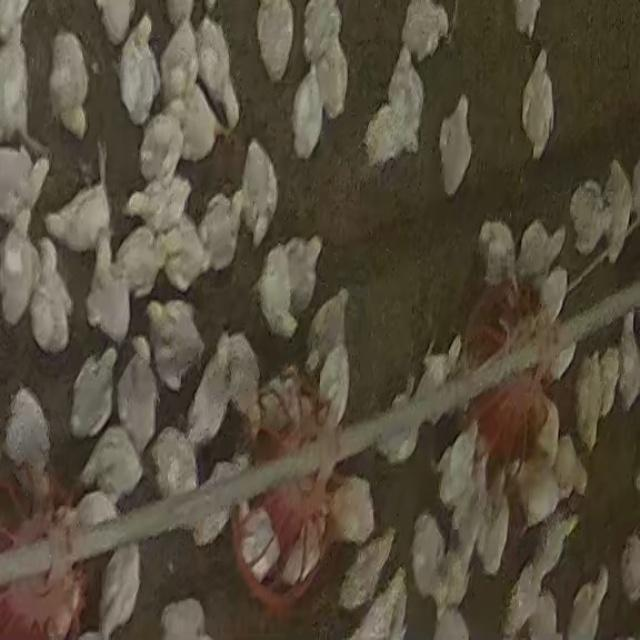chicken: (87, 235, 139, 348), (145, 296, 204, 392), (188, 454, 246, 548), (28, 236, 74, 354), (44, 178, 114, 253), (190, 330, 233, 449), (118, 16, 162, 128), (115, 341, 158, 455), (198, 14, 240, 130), (48, 26, 91, 139), (69, 342, 118, 440), (0, 218, 43, 328), (169, 80, 224, 166), (256, 241, 302, 341), (339, 532, 397, 610), (3, 386, 53, 476), (112, 223, 170, 300), (78, 427, 142, 495), (520, 46, 558, 160), (387, 48, 426, 158), (0, 22, 34, 148), (225, 336, 267, 438), (159, 13, 200, 116), (156, 218, 211, 294), (196, 192, 243, 277), (437, 91, 474, 198), (375, 378, 421, 464), (98, 542, 140, 636), (305, 287, 350, 373), (148, 428, 198, 503), (242, 140, 280, 238), (439, 423, 482, 508), (138, 113, 186, 188), (568, 180, 612, 259), (282, 234, 323, 317), (602, 160, 634, 266), (316, 338, 352, 430), (120, 179, 192, 225), (410, 512, 448, 598), (329, 477, 377, 544), (400, 1, 451, 64), (255, 2, 294, 84), (315, 31, 350, 120), (234, 503, 276, 576), (517, 463, 564, 528), (290, 65, 322, 160), (573, 355, 606, 446), (516, 219, 562, 284), (362, 103, 410, 165), (453, 490, 488, 575), (301, 1, 343, 69), (259, 373, 307, 430), (285, 514, 327, 578), (478, 500, 513, 575), (531, 518, 568, 584), (615, 314, 640, 410), (551, 434, 585, 497), (506, 560, 538, 622)
